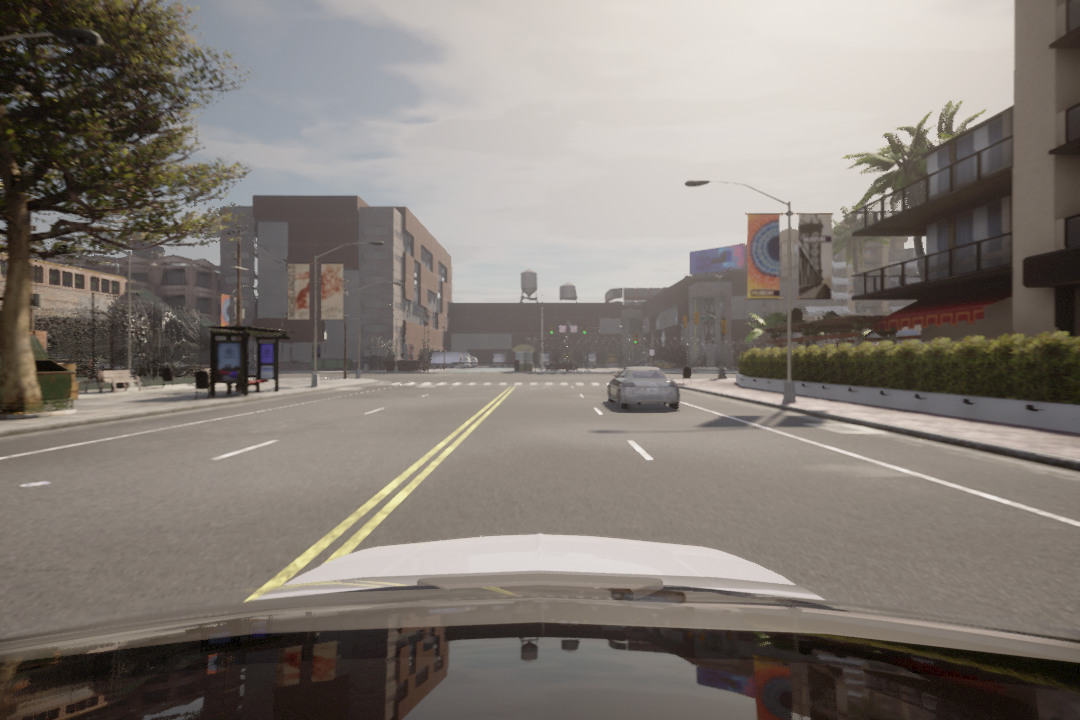walkside: (389, 381, 619, 390)
